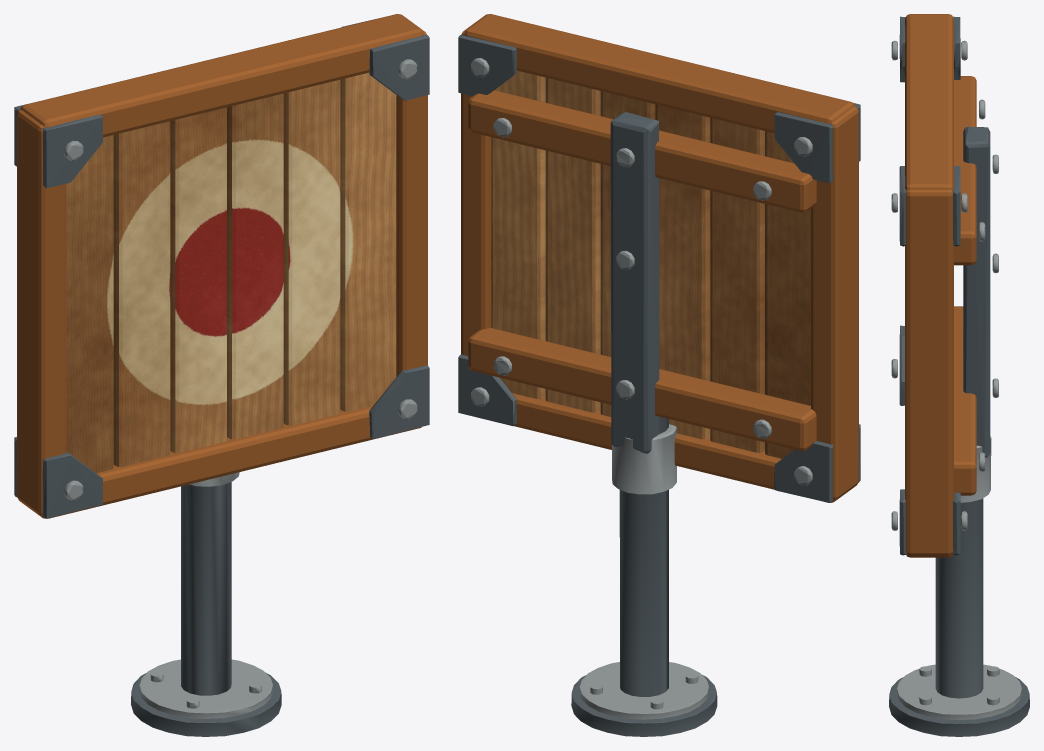
File: wsc-prop-025-bullseye-distance.glb
3 renders of one model, left to right at view 1: azimuth 30°, elevation 25°; view 2: azimuth 150°, elevation 25°; view 3: azimuth 270°, elevation 25°, orthographic. The views are drawn at different scales.
Visible parts, largest first — view 1: WSC-PROP-025 | Distance; view 2: WSC-PROP-025 | Distance; view 3: WSC-PROP-025 | Distance.
Part boxes in pixels (x1,y1,x2,y2): WSC-PROP-025 | Distance: (14,14,429,736); WSC-PROP-025 | Distance: (458,14,860,736); WSC-PROP-025 | Distance: (889,14,1029,736).
Size of the model in its own units: 1.19 by 1.9 by 0.399.
5 materials, 2 textured.
